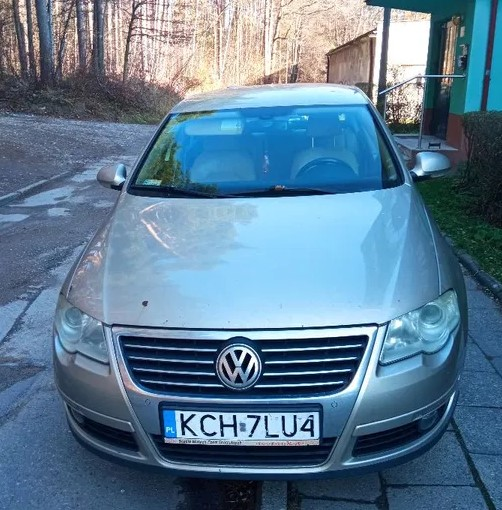number_plate: (155, 400, 328, 453)
